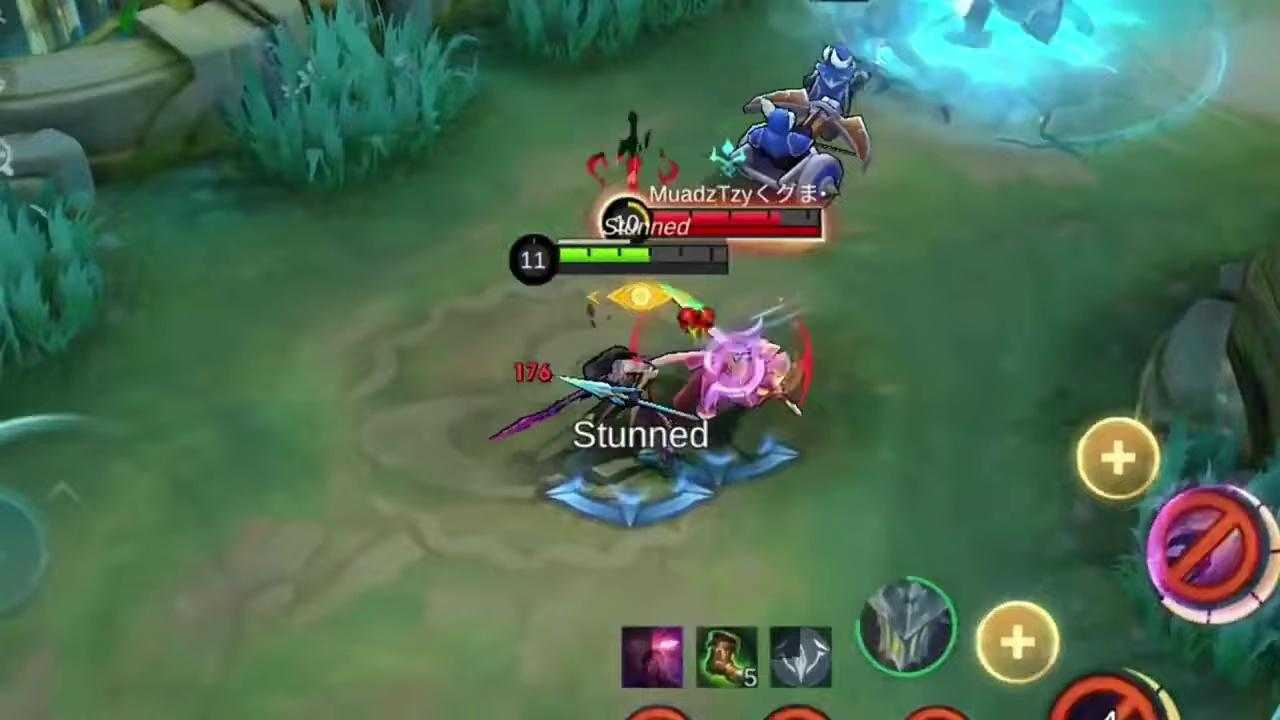Arbusto: (217, 0, 472, 182), (0, 178, 104, 366), (496, 0, 721, 60)
Argos: (668, 306, 807, 442)
Arlott: (494, 340, 678, 498)
Esbirro_Aliado: (709, 91, 861, 206), (803, 46, 874, 115)
HP_Enemigo: (659, 210, 823, 226)
HP_Heroe_Principal: (561, 247, 729, 261)
